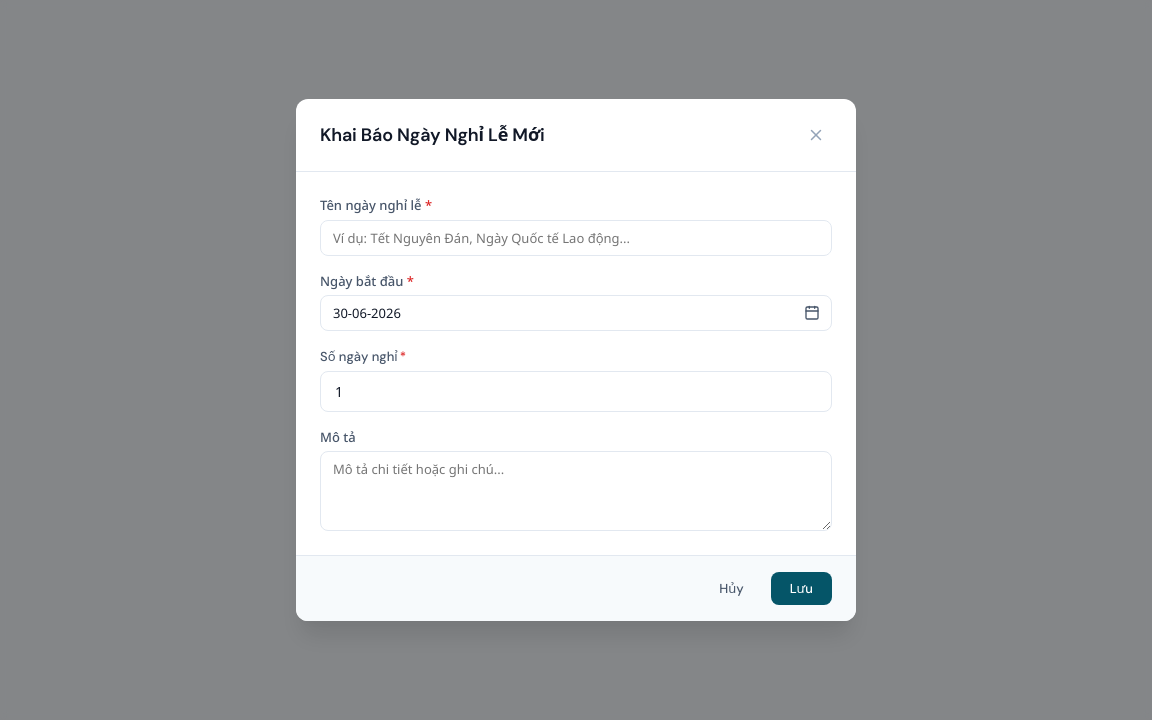
PublicHolidayFormModal › blocks selecting a past date when creating a holiday
The image size is (1152, 720).
Type "Ngày lễ quá khứ" into the field labelled "Tên ngày nghỉ lễ *".
click(576, 238); type("Ngày lễ quá khứ")  # box [320,220,832,256]
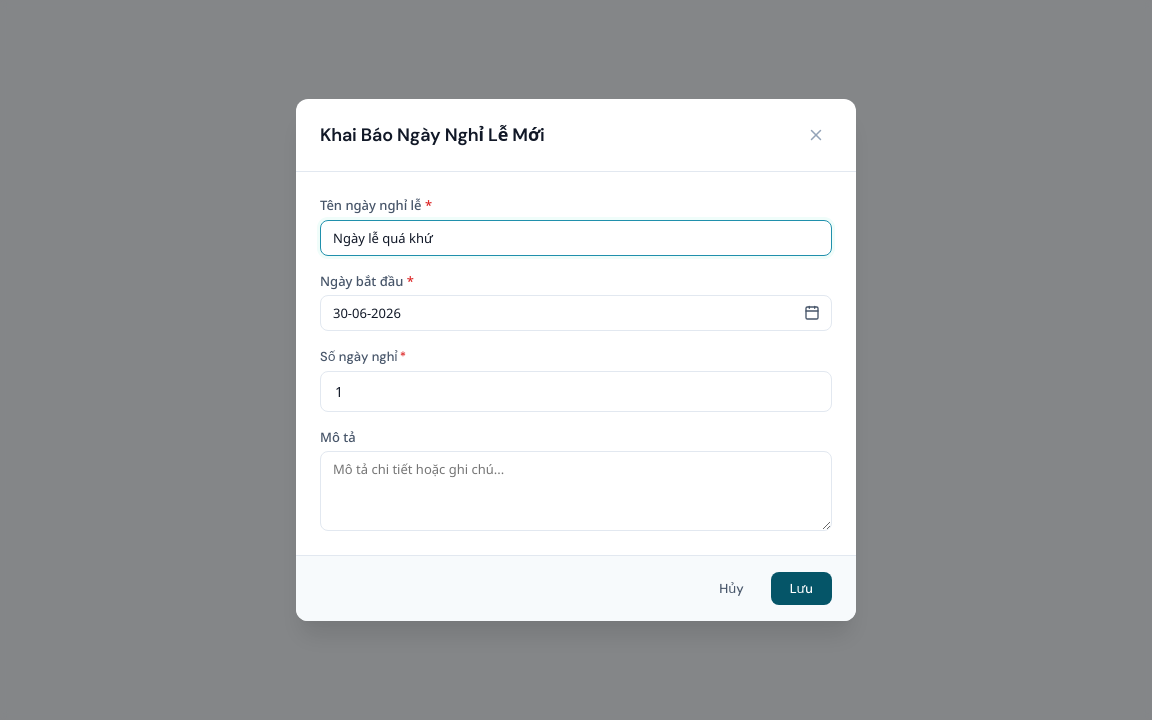
Open DatePickerModal
Click the field labelled "Ngày bắt đầu *".
click(576, 313)  # box [320,295,832,331]
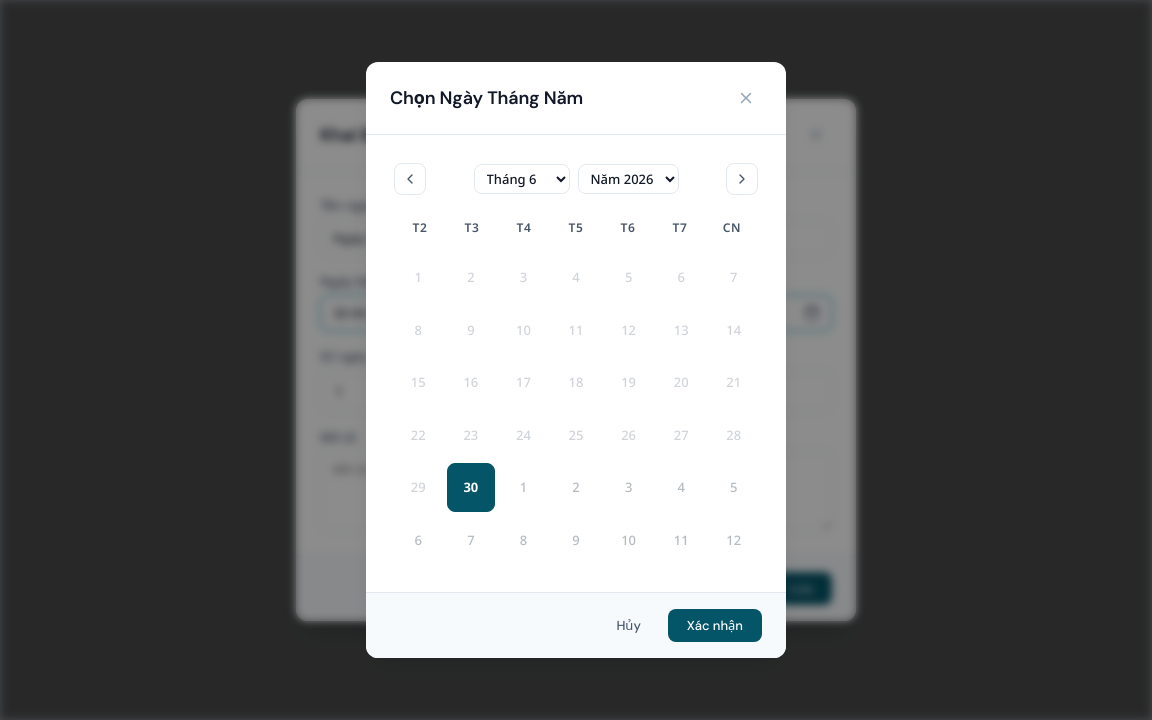
Check: the heading "Chọn Ngày Tháng Năm" is shown, box [390,86,583,109]
